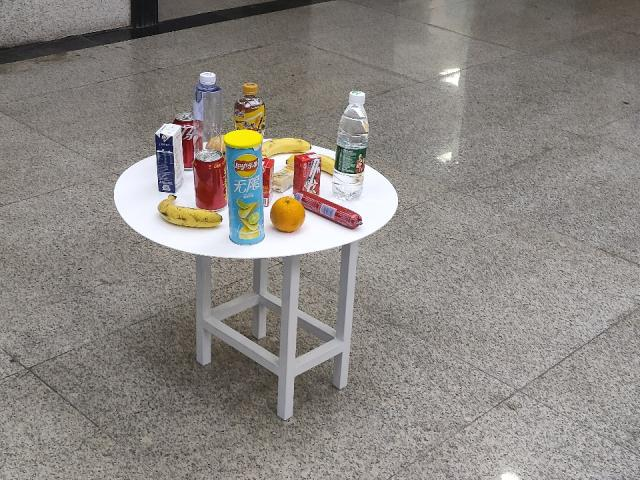Canned_drinks: (192, 150, 223, 206)
bottle: (337, 91, 368, 202), (190, 71, 223, 147)
cylinder: (222, 132, 266, 246)
drink_box: (154, 126, 183, 188), (294, 154, 321, 192)
